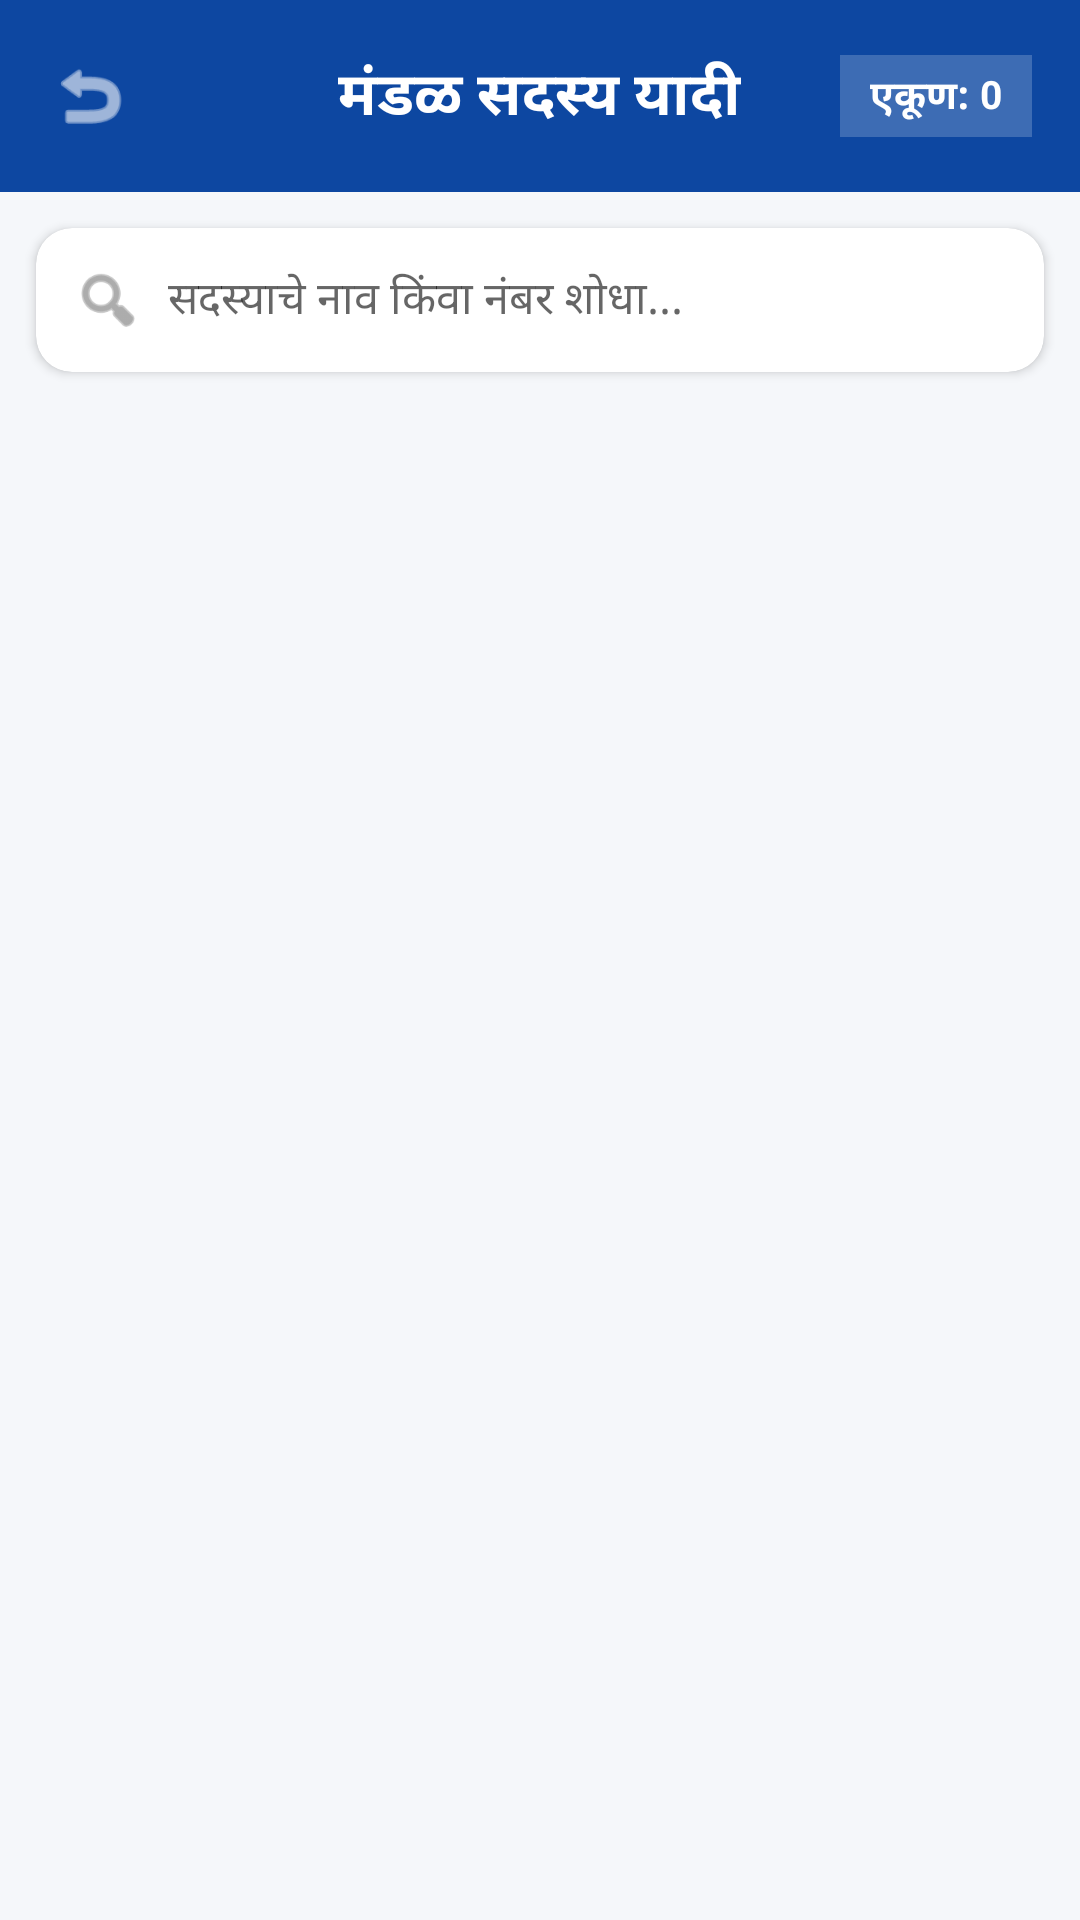

Locate icon controls on the screen. Image size 1080x1920, boxes as (x1, y1, x2, y2).
revert: (61, 69, 122, 124)
search: (82, 274, 134, 327)
